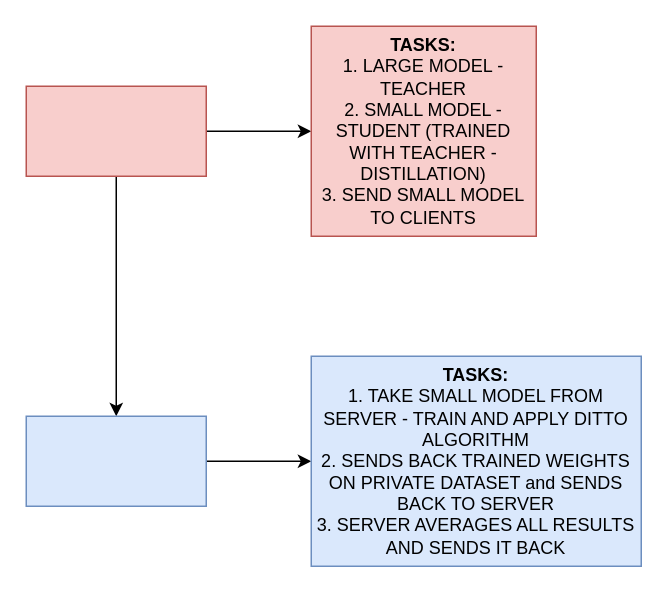
The diagram is 668 pixels wide and 593 high, and some of its shapes have lost their labels. Here are the shapes that lost their labels. From the top down, the centre of each, then its label:
At (115,130): "SERVER".
At (115,460): "CLIENTS".
